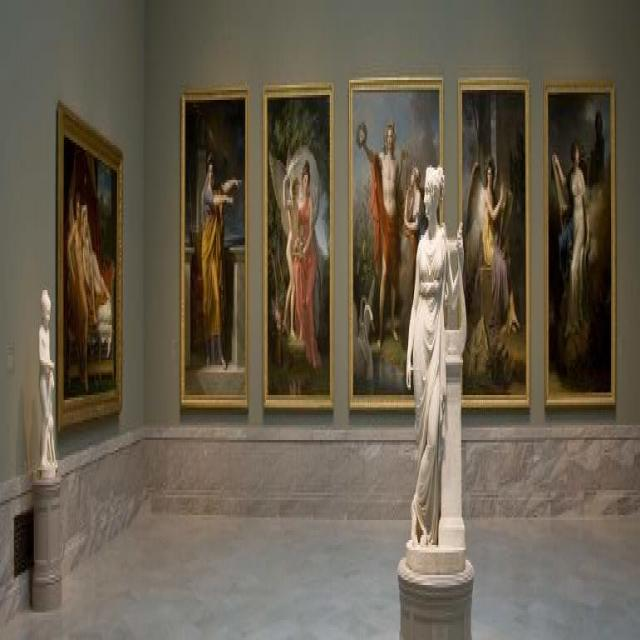Tablo: (351, 86, 441, 403), (461, 86, 528, 400), (546, 88, 613, 398), (266, 93, 331, 398), (184, 95, 247, 401), (63, 132, 119, 404)
